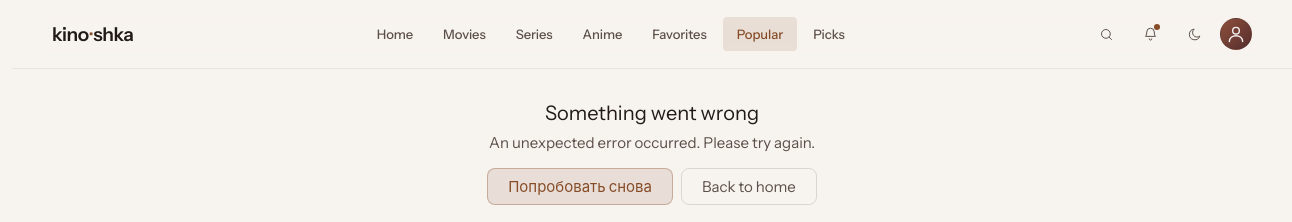
Test: AppLayout — per-route ErrorBoundary › «Попробовать снова» восстанавливает страницу, если причина устранена — chrome вокруг сохраняется
The image size is (1292, 222).
Expected: the text "An unexpected error occurred. Please try again." is shown, x1=489 y1=133 x2=815 y2=152
What coordinates should you click on to do the following:
click the button "Попробовать снова"
I would click on:
 (580, 186)
Its box is x1=487 y1=168 x2=673 y2=205.
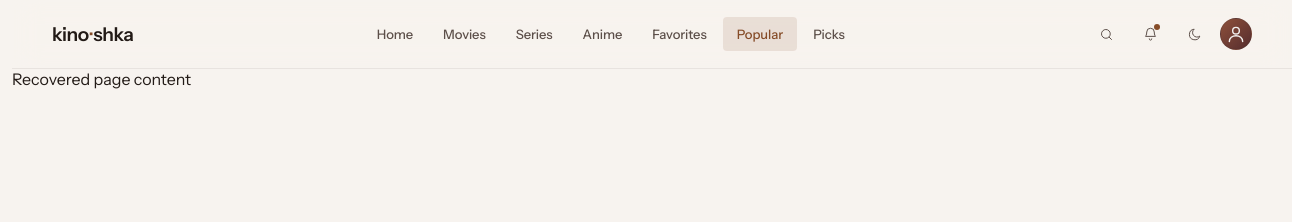
Expected: the header is shown, x1=12 y1=0 x2=1291 y2=69
Expected: the text "Recovered page content" is shown, x1=12 y1=69 x2=191 y2=89
Expected: the text "An unexpected error occurred. Please try again." is gone
